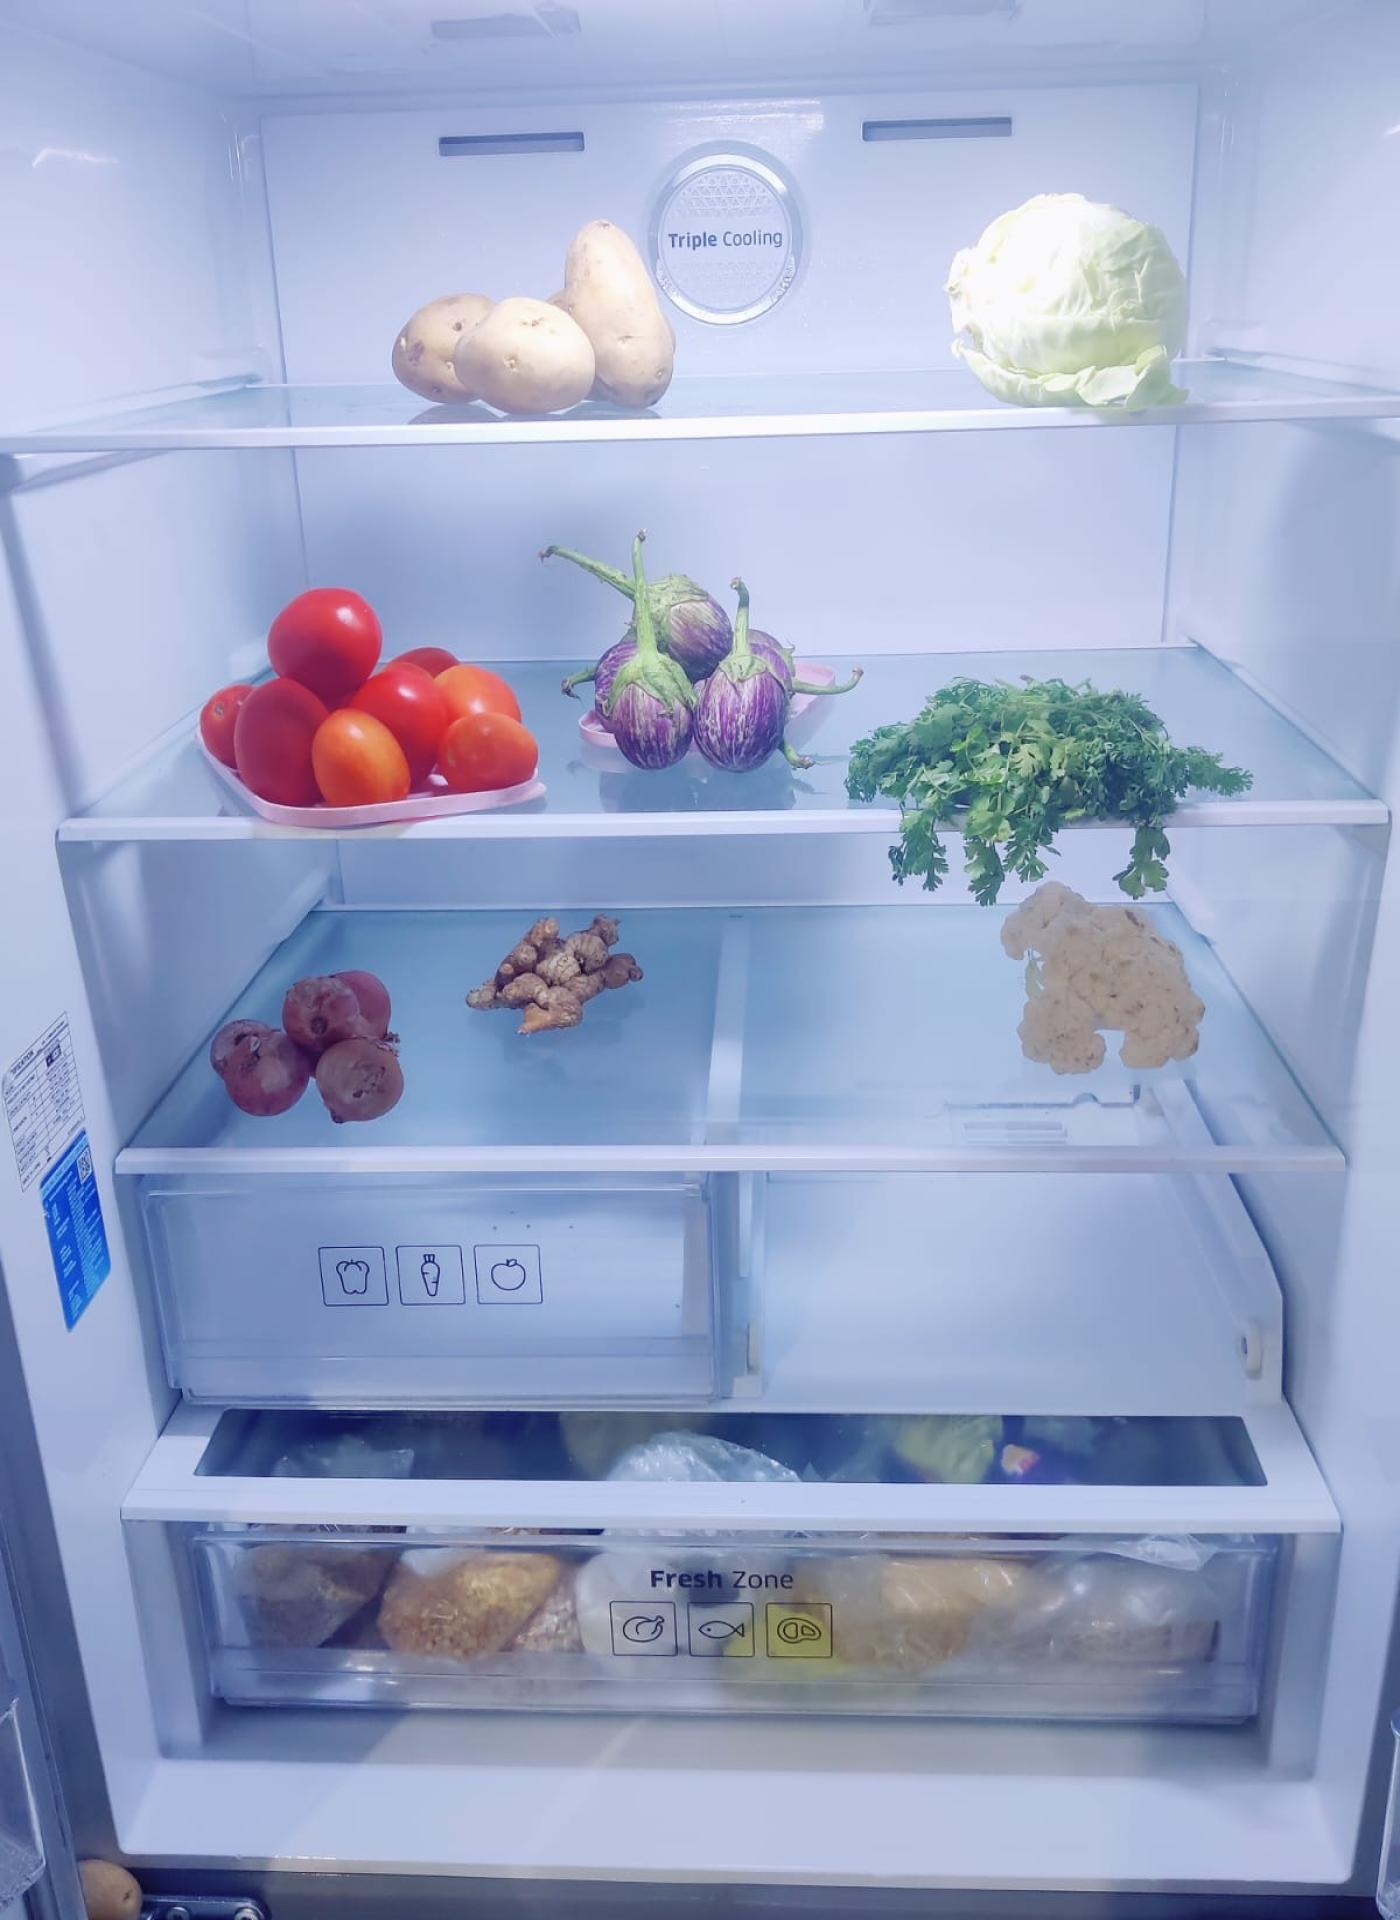brinjal: (590, 577, 789, 769)
cabbage: (948, 200, 1187, 407)
cauliflower: (1006, 888, 1205, 1075)
coriander: (856, 683, 1237, 868)
ginger: (468, 911, 644, 1029)
onion: (209, 967, 404, 1121)
potato: (398, 228, 680, 420)
tomato: (201, 583, 534, 805)
